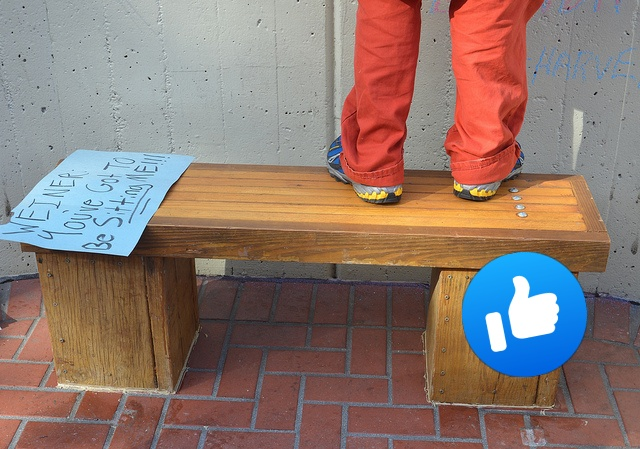like: (462, 252, 587, 377)
